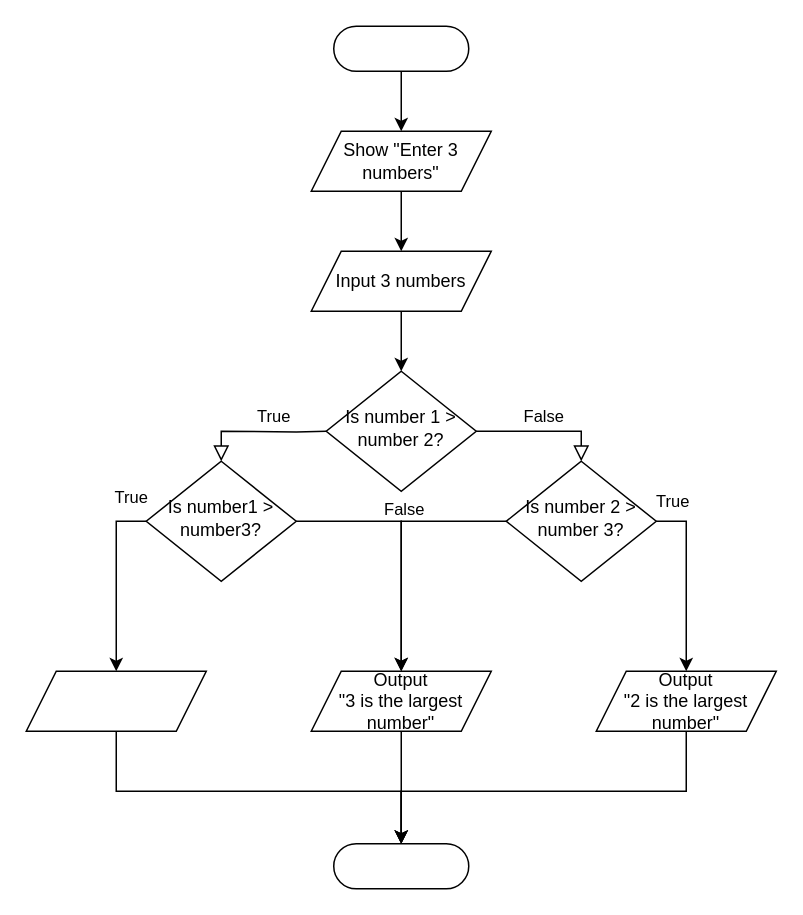
This 803x915 diagram has some shape labels left out. The box of each missing label's shape, as (x1, y1, x2, y2) in pixels:
End: (332, 842, 469, 889)
Output "1 is the largest number": (25, 670, 206, 731)
Start: (332, 25, 469, 71)
